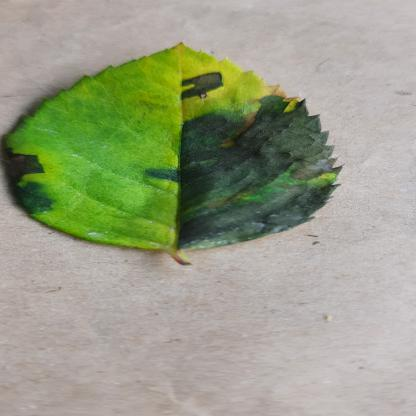powdery-mildew: (14, 42, 350, 256)
